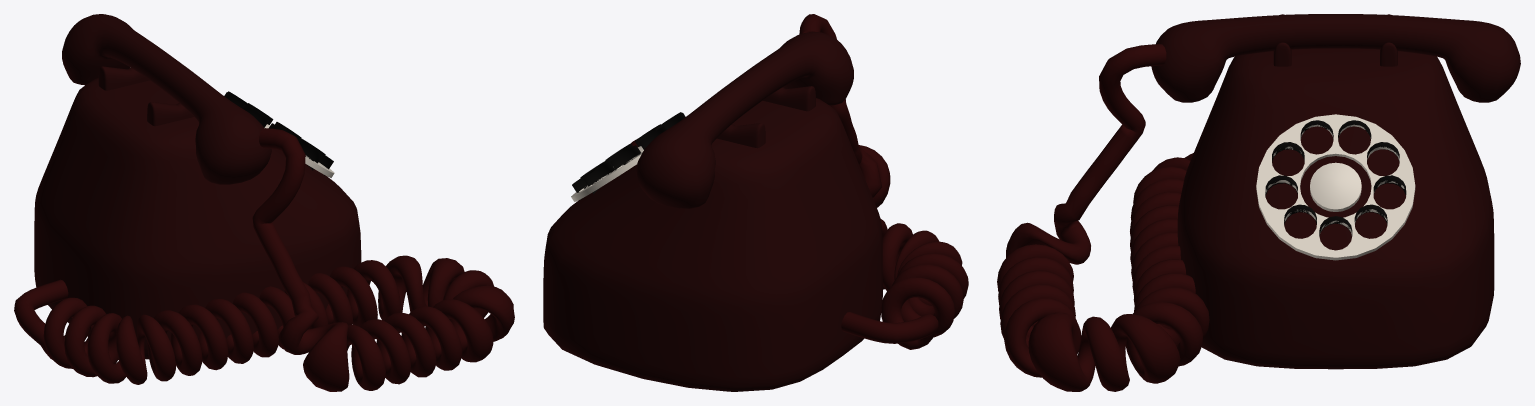
The model's file is telefon.fbx.
3 renders of one model, left to right at view 1: azimuth 30°, elevation 25°; view 2: azimuth 150°, elevation 25°; view 3: azimuth 270°, elevation 25°, orthographic. The views are drawn at different scales.
Visible parts, largest first — view 1: Plane, Spiral.001, Cube, Plane.001, Cylinder; view 2: Plane, Cube, Spiral.001, Plane.001, Cylinder, Circle; view 3: Plane, Spiral.001, Cube, Circle, Cylinder, Plane.001.
Boxes of the visible parts, x1=… form: Plane: x1=34, y1=78, x2=361, y2=359; Spiral.001: x1=14, y1=128, x2=514, y2=391; Cube: x1=62, y1=14, x2=271, y2=184; Plane.001: x1=98, y1=66, x2=193, y2=126; Cylinder: x1=224, y1=91, x2=333, y2=175; Plane: x1=543, y1=98, x2=882, y2=391; Cube: x1=636, y1=31, x2=853, y2=208; Spiral.001: x1=631, y1=14, x2=968, y2=349; Plane.001: x1=717, y1=86, x2=815, y2=148; Cylinder: x1=572, y1=112, x2=685, y2=199; Circle: x1=571, y1=146, x2=643, y2=201; Plane: x1=1177, y1=48, x2=1494, y2=369; Spiral.001: x1=997, y1=44, x2=1209, y2=391; Cube: x1=1151, y1=14, x2=1520, y2=102; Circle: x1=1256, y1=114, x2=1415, y2=260; Cylinder: x1=1265, y1=120, x2=1406, y2=236; Plane.001: x1=1273, y1=14, x2=1397, y2=66.
Size of the model in its own units: 2.94 by 1.85 by 3.17.
